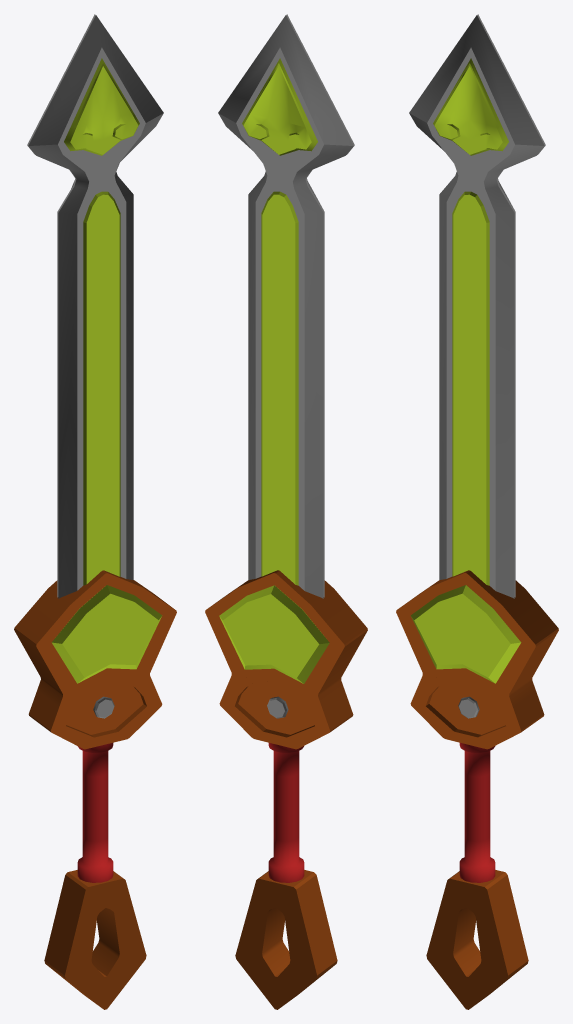
The model's file is Sword_Close.obj.
The picture shows the model from 3 angles, left to right: view 1: azimuth 30°, elevation 25°; view 2: azimuth 150°, elevation 25°; view 3: azimuth 330°, elevation 25°; orthographic projection.
Visible parts, largest first — view 1: Hoja, DetalleInf, Guarda, Pomo, Kanji, DetalleSup, Mango, Hoja002; view 2: Hoja002, DetalleInf001, Guarda, Pomo, Kanji, DetalleSup001, Mango, Hoja; view 3: Hoja, DetalleInf, Guarda, Pomo, Kanji, DetalleSup, Mango, Hoja002.
Boxes of the visible parts, <box> form: Hoja: <box>28,15,163,598</box>; DetalleInf: <box>83,191,120,585</box>; Guarda: <box>14,570,176,749</box>; Pomo: <box>44,870,146,1009</box>; Kanji: <box>51,585,162,683</box>; DetalleSup: <box>64,58,139,155</box>; Mango: <box>77,743,113,882</box>; Hoja002: <box>27,14,95,597</box>; Hoja002: <box>218,15,353,598</box>; DetalleInf001: <box>261,191,298,585</box>; Guarda: <box>205,570,367,749</box>; Pomo: <box>235,870,337,1009</box>; Kanji: <box>219,585,329,683</box>; DetalleSup001: <box>242,58,317,155</box>; Mango: <box>268,743,304,882</box>; Hoja: <box>286,14,354,597</box>; Hoja: <box>409,15,544,598</box>; DetalleInf: <box>452,191,489,585</box>; Guarda: <box>396,570,558,749</box>; Pomo: <box>426,870,528,1009</box>; Kanji: <box>410,585,521,683</box>; DetalleSup: <box>433,58,508,155</box>; Mango: <box>459,742,495,882</box>; Hoja002: <box>477,14,545,597</box>.
Size of the model in its own units: 0.1512 by 1.01 by 0.0566.
